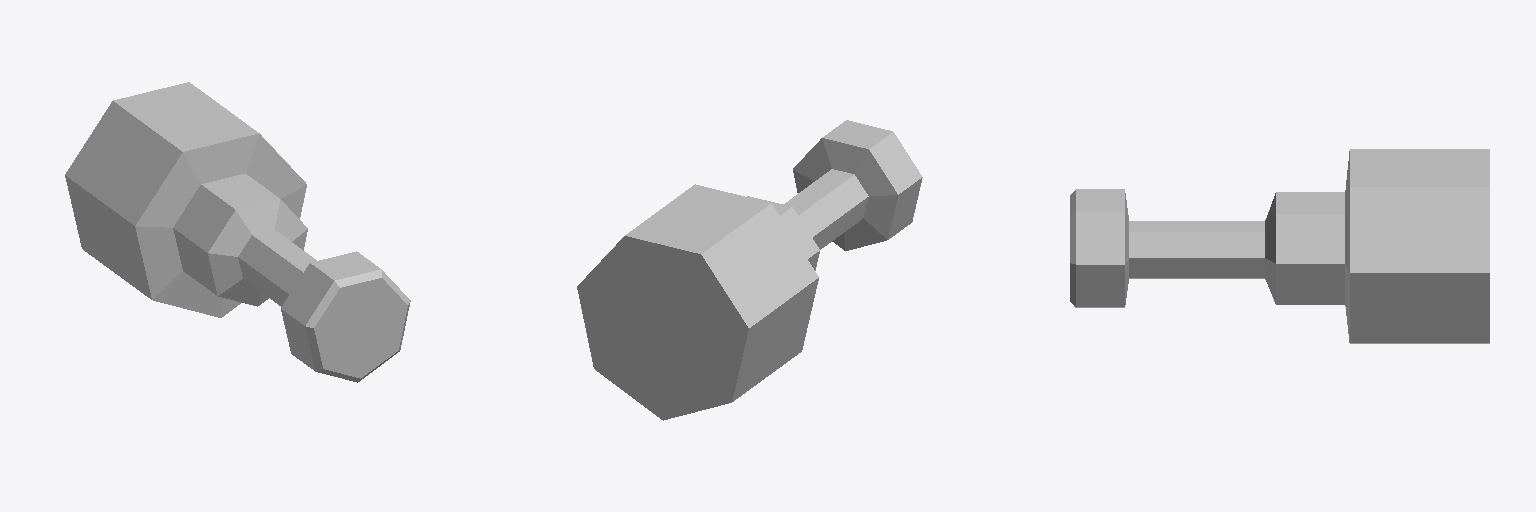
Rendered from valve_1.obj.
The picture shows the model from 3 angles: view 1: azimuth 30°, elevation 25°; view 2: azimuth 150°, elevation 25°; view 3: azimuth 270°, elevation 25°; orthographic projection.
Parts seen in each view (by area): view 1: Cylinder.008; view 2: Cylinder.008; view 3: Cylinder.008.
Part boxes in pixels (x1,y1,x2,y2): Cylinder.008: (65, 82, 410, 382); Cylinder.008: (577, 120, 922, 420); Cylinder.008: (1070, 149, 1489, 343).
Bounding box in the file's own units: 0.0938 × 0.0914 × 0.1982.